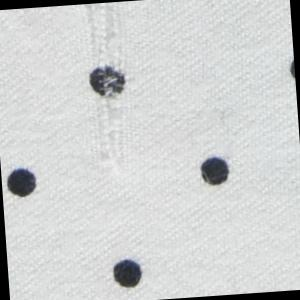Damage: (83, 3, 133, 180)
Wrinkle: (220, 224, 300, 296)
